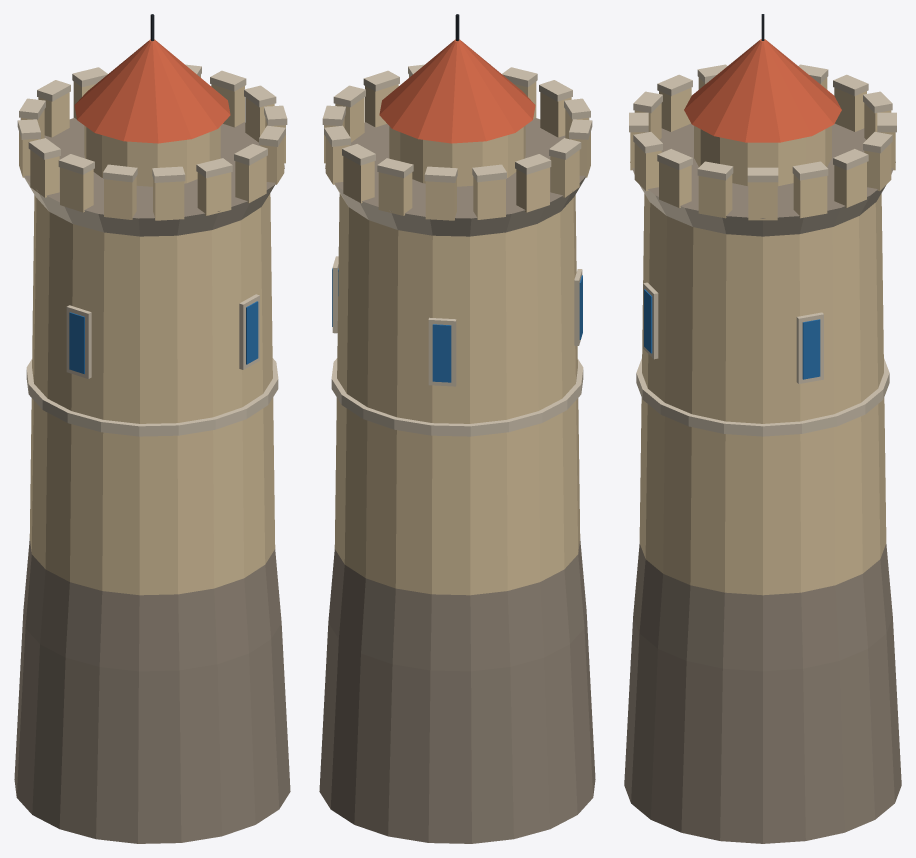
The picture shows the model from 3 angles, left to right: view 1: azimuth 30°, elevation 25°; view 2: azimuth 150°, elevation 25°; view 3: azimuth 270°, elevation 25°; orthographic projection.
Parts seen in each view (by area): view 1: w467504814_TorreCarvajal; view 2: w467504814_TorreCarvajal; view 3: w467504814_TorreCarvajal.
Boxes of the visible parts, left/top/right/bottom form: w467504814_TorreCarvajal: left=14, top=14, right=290, bottom=843; w467504814_TorreCarvajal: left=319, top=14, right=595, bottom=843; w467504814_TorreCarvajal: left=624, top=14, right=901, bottom=843.
Size of the model in its own units: 6.85 by 21 by 6.85.
2 materials, 2 textured.
